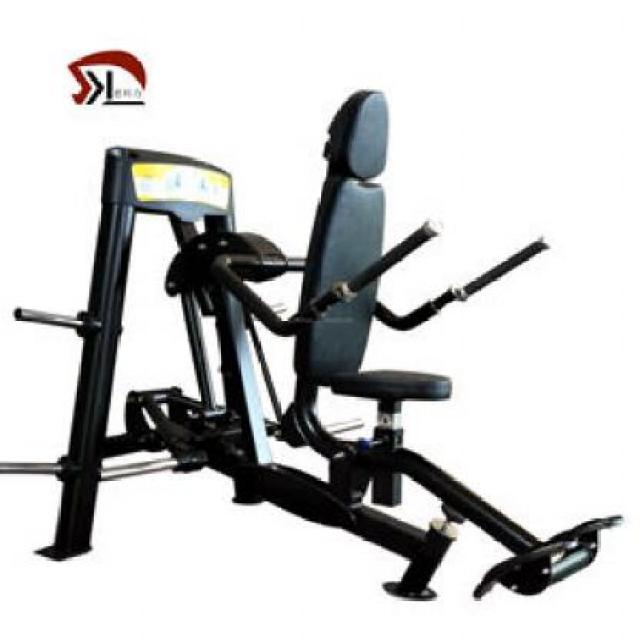seated dip machine: (2, 110, 626, 602)
